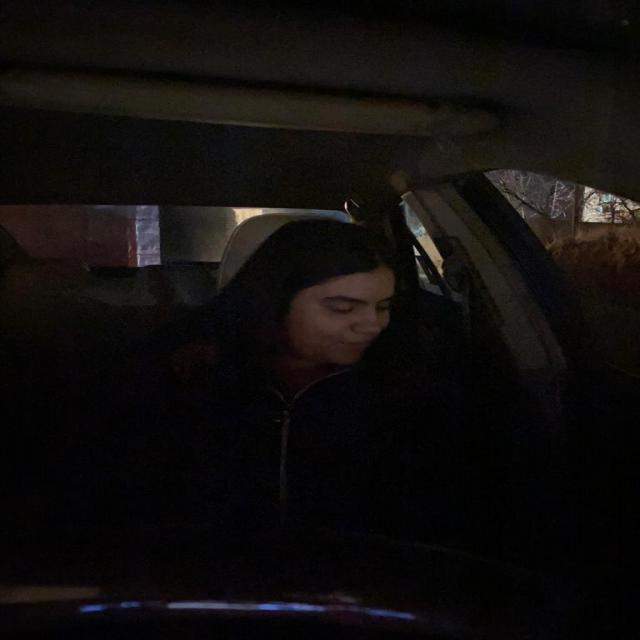drowsy: (235, 206, 410, 389)
